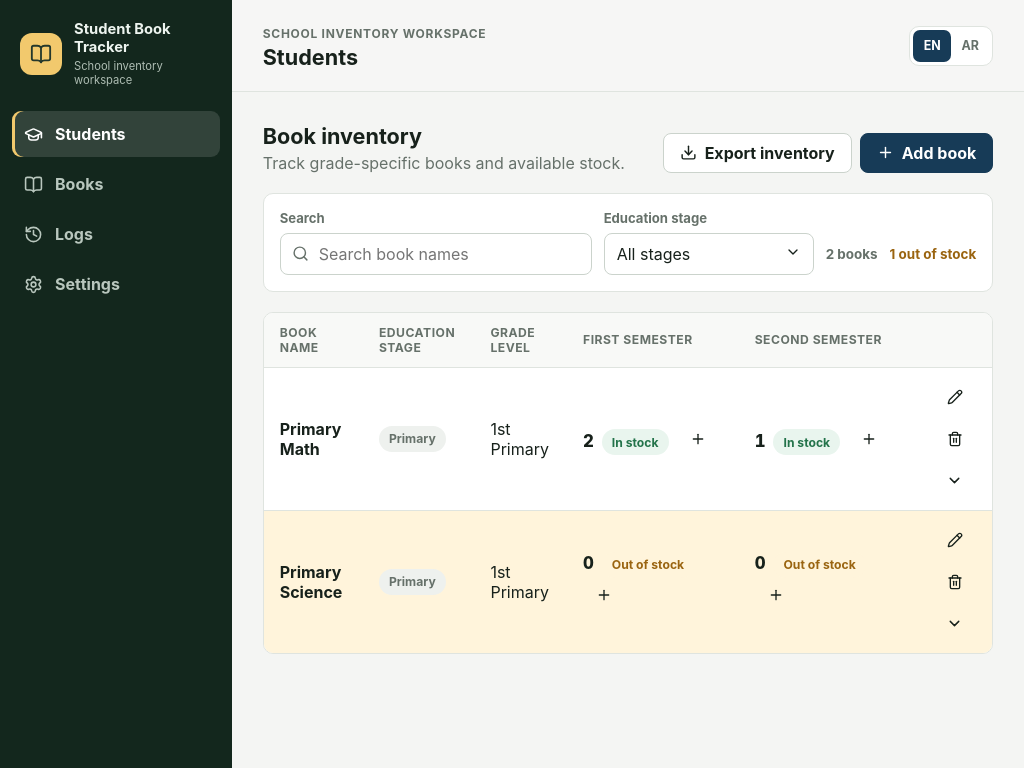
Test case: BooksScreen › uses plus icons for semester stock actions without toggling history
The width and height of the screenshot is (1024, 768).
Expected: the 2nd icon with class "lucide-plus" is shown, [690, 431, 706, 447]
Click the button named "Add first semester stock to Primary Math": (698, 439) [676, 422, 718, 456]
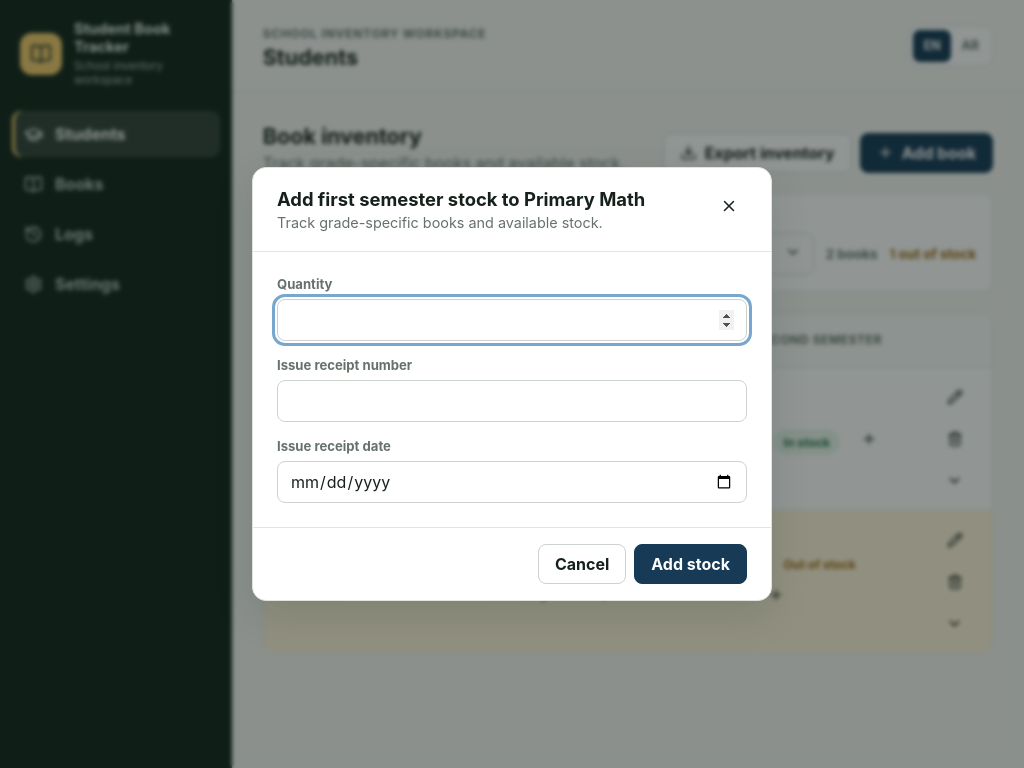
Now the dialog "Add first semester stock to Primary Math" is shown, box [252, 167, 772, 601]
